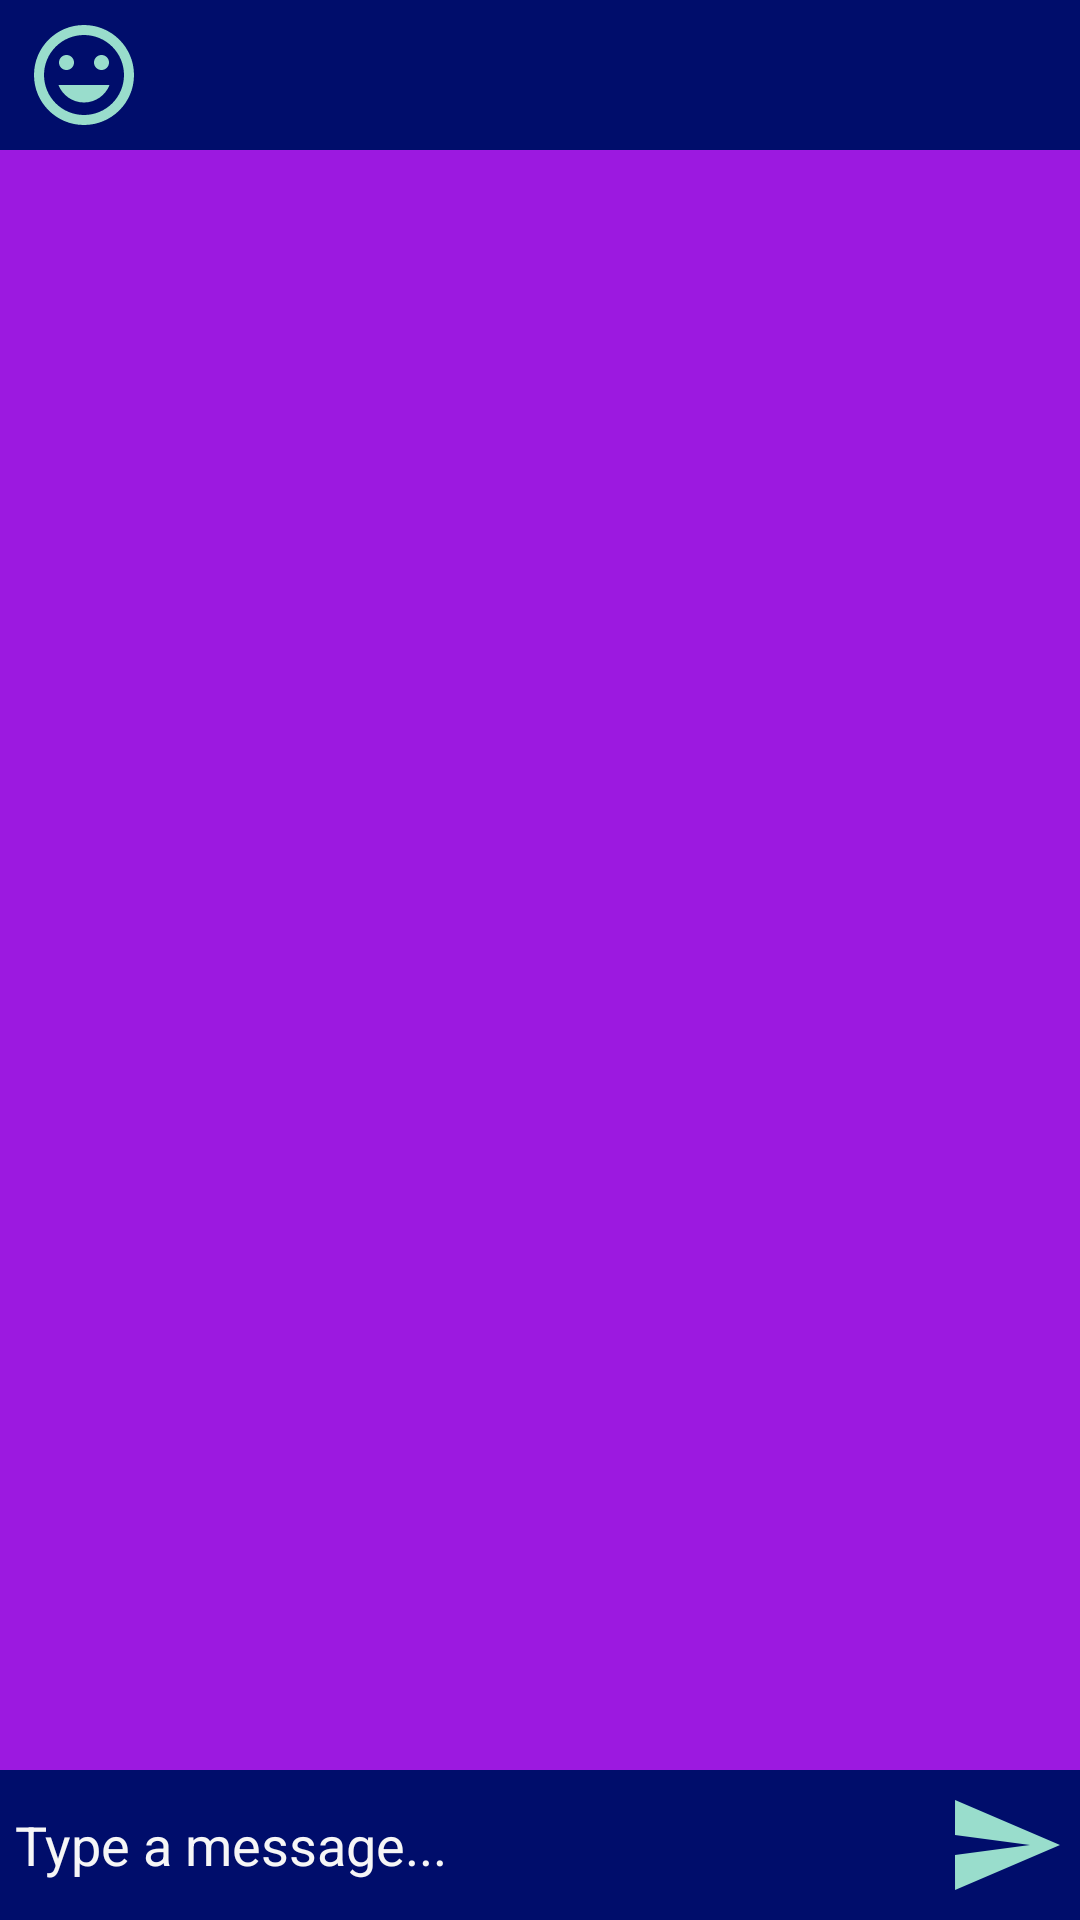

Icons on this 1080×1920 Android screen, each with the point to tap as (x,y):
face: (84,75)
send: (1007,1845)
